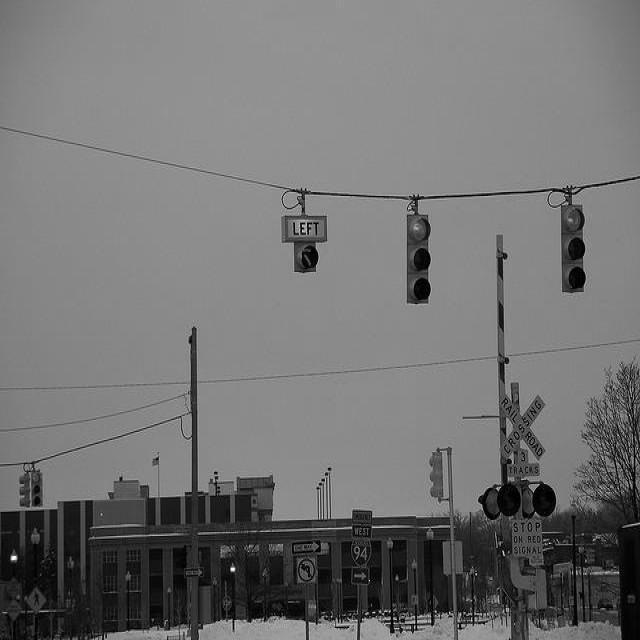vehicle: (597, 597, 614, 609)
